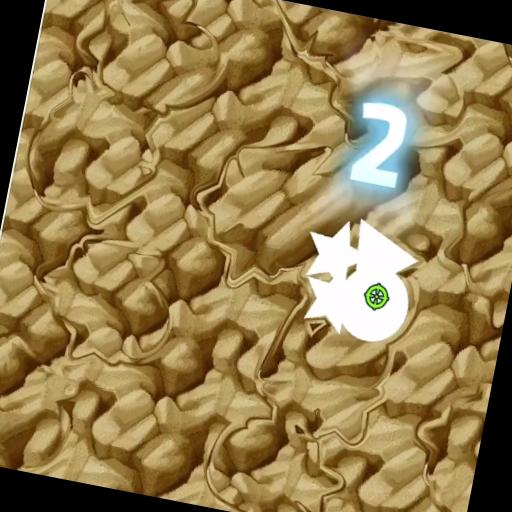Target: (12, 59, 172, 242), (179, 119, 344, 295), (27, 220, 195, 382), (242, 314, 402, 460), (287, 204, 432, 358), (80, 0, 237, 127), (197, 398, 360, 512), (395, 367, 492, 512)
